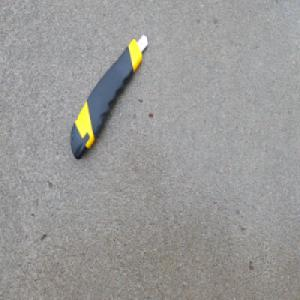Cutter: (69, 32, 148, 160)
